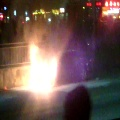fire: (21, 44, 57, 93)
